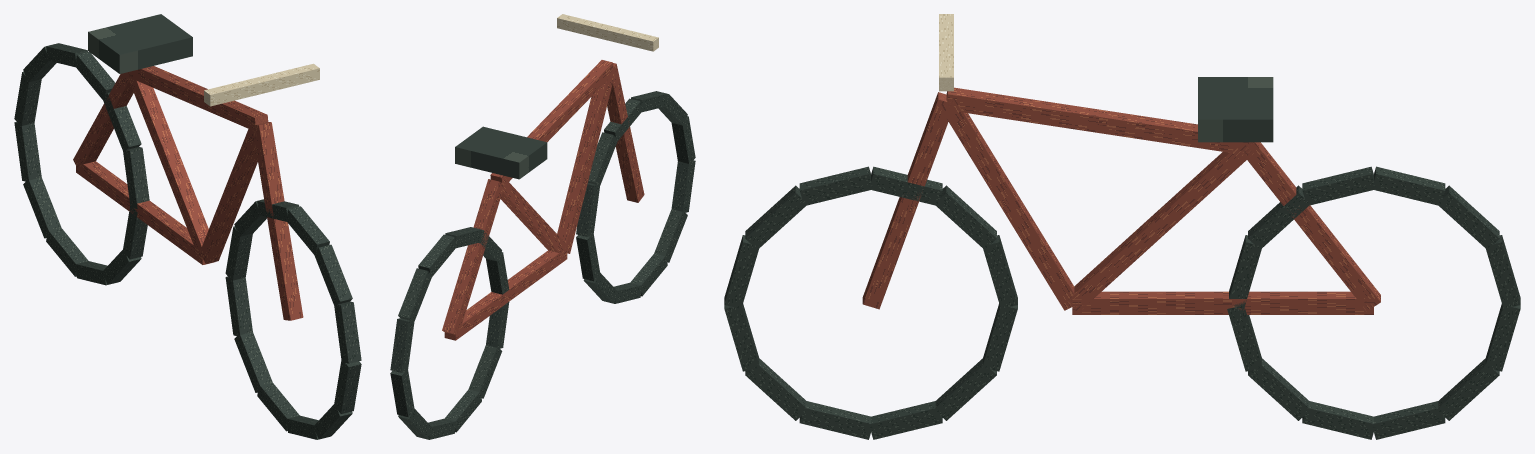
File: bicycle.gltf
The picture shows the model from 3 angles, left to right: view 1: azimuth 30°, elevation 25°; view 2: azimuth 150°, elevation 25°; view 3: azimuth 270°, elevation 25°; orthographic projection. The views are drawn at different scales.
Visible parts, largest first — view 1: tire (×24), frame (×6), saddle, handlebar; view 2: tire (×24), frame (×6), saddle, handlebar; view 3: tire (×24), frame (×6), saddle, handlebar.
Part boxes in pixels (<box>): tire (×24): <box>14,43,361,439</box>; frame (×6): <box>73,66,303,320</box>; saddle: <box>88,14,192,73</box>; handlebar: <box>204,63,319,106</box>; tire (×24): <box>390,91,695,439</box>; frame (×6): <box>442,60,644,340</box>; saddle: <box>455,126,547,179</box>; handlebar: <box>557,14,658,51</box>; tire (×24): <box>724,166,1520,439</box>; frame (×6): <box>862,87,1380,314</box>; saddle: <box>1198,77,1273,142</box>; handlebar: <box>939,14,953,91</box>.
Size of the model in its own units: 0.375 by 1.07 by 1.98.
Materials: 3 (3 with a texture image).
